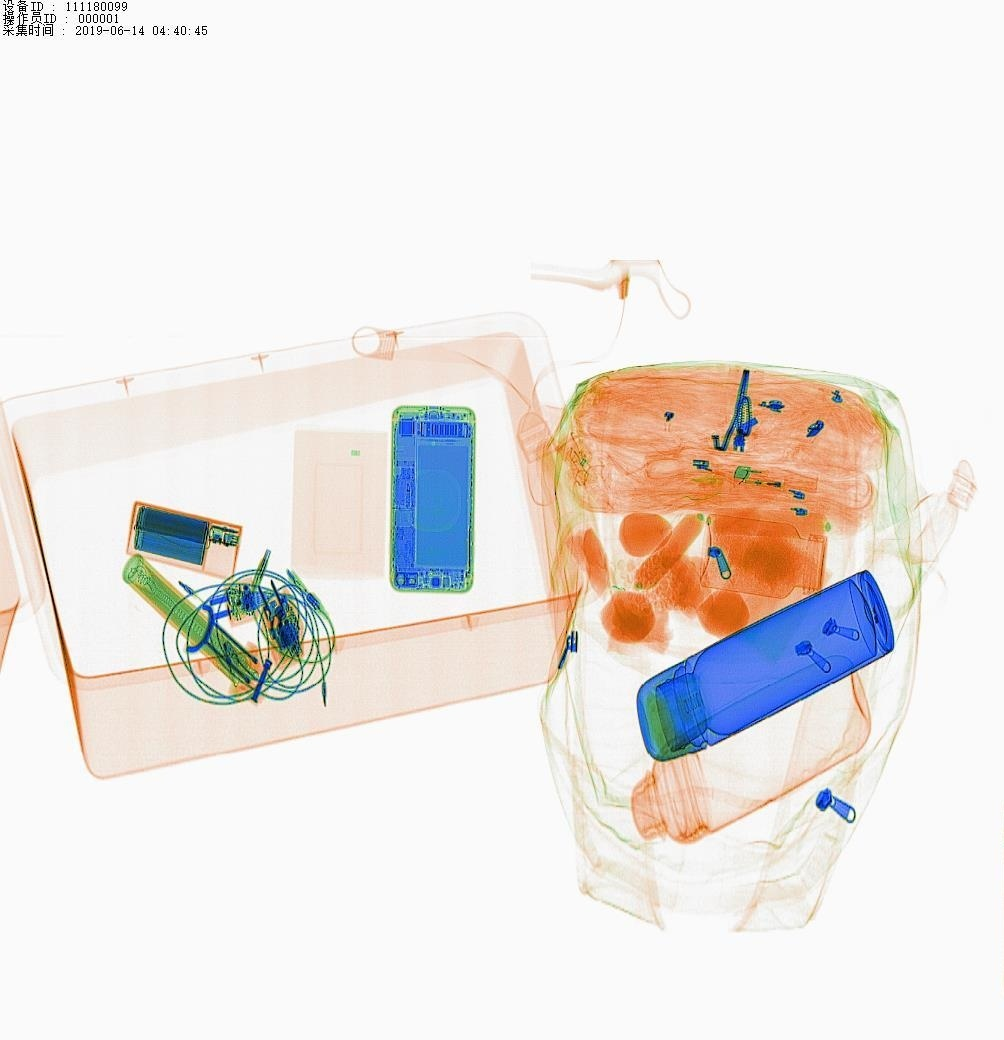NonmetallicFire: (718, 452, 830, 513)
